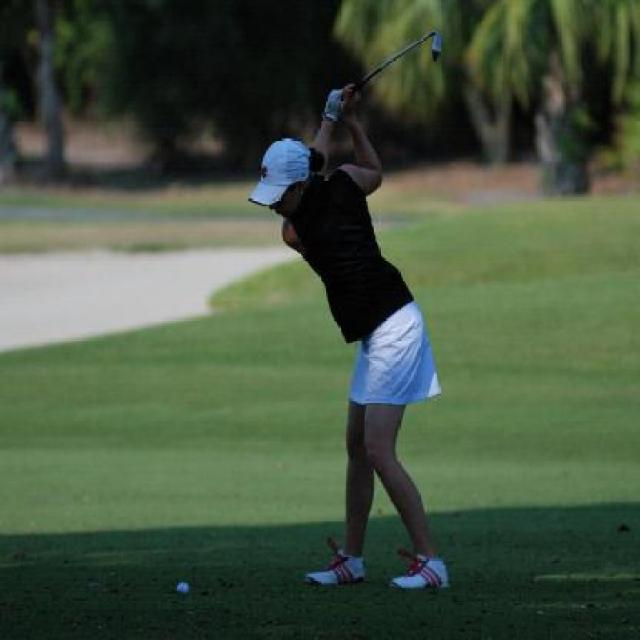club head: (426, 30, 442, 62)
